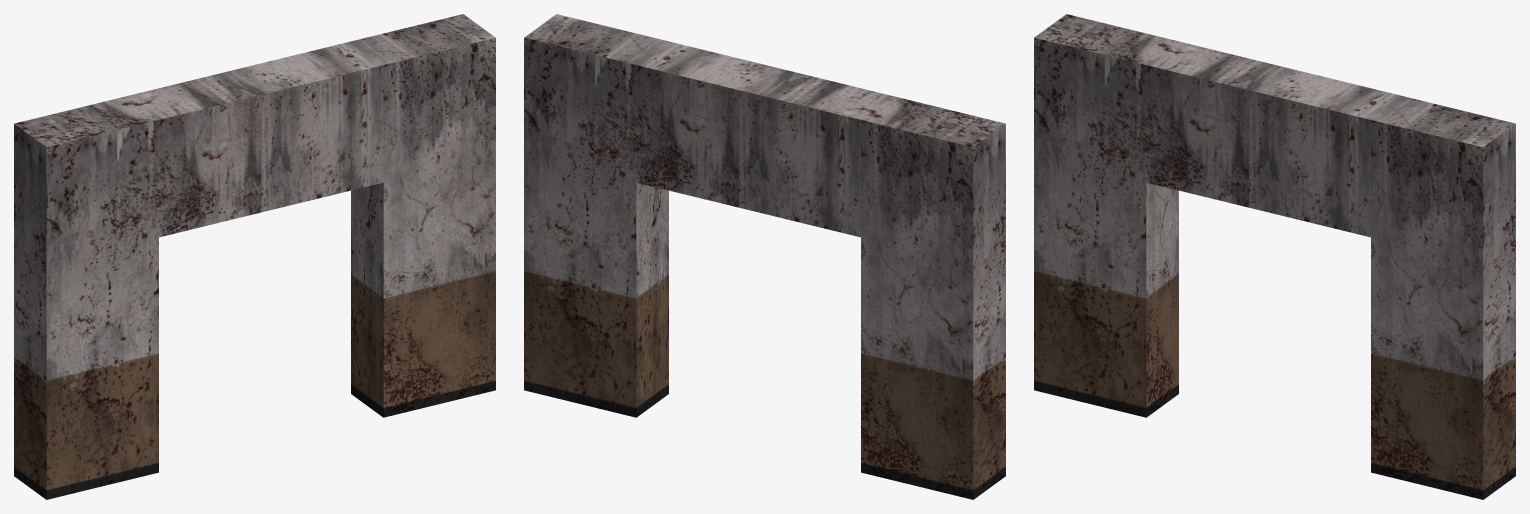
File: Mesh_Env_WallDoor01.fbx
3 renders of one model, left to right at view 1: azimuth 30°, elevation 25°; view 2: azimuth 150°, elevation 25°; view 3: azimuth 330°, elevation 25°, orthographic.
Visible parts, largest first — view 1: Mesh_Env_WallDoor01; view 2: Mesh_Env_WallDoor01; view 3: Mesh_Env_WallDoor01.
Boxes of the visible parts, bbox=[...] form: Mesh_Env_WallDoor01: bbox=[14, 14, 495, 499]; Mesh_Env_WallDoor01: bbox=[524, 14, 1005, 499]; Mesh_Env_WallDoor01: bbox=[1034, 14, 1515, 499].
Bounding box in the file's own units: 400 × 300 × 50.
